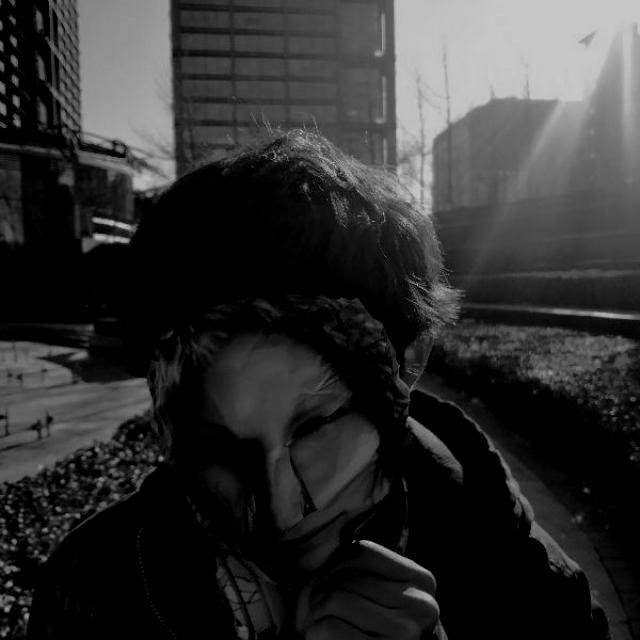fake: (202, 340, 368, 570)
